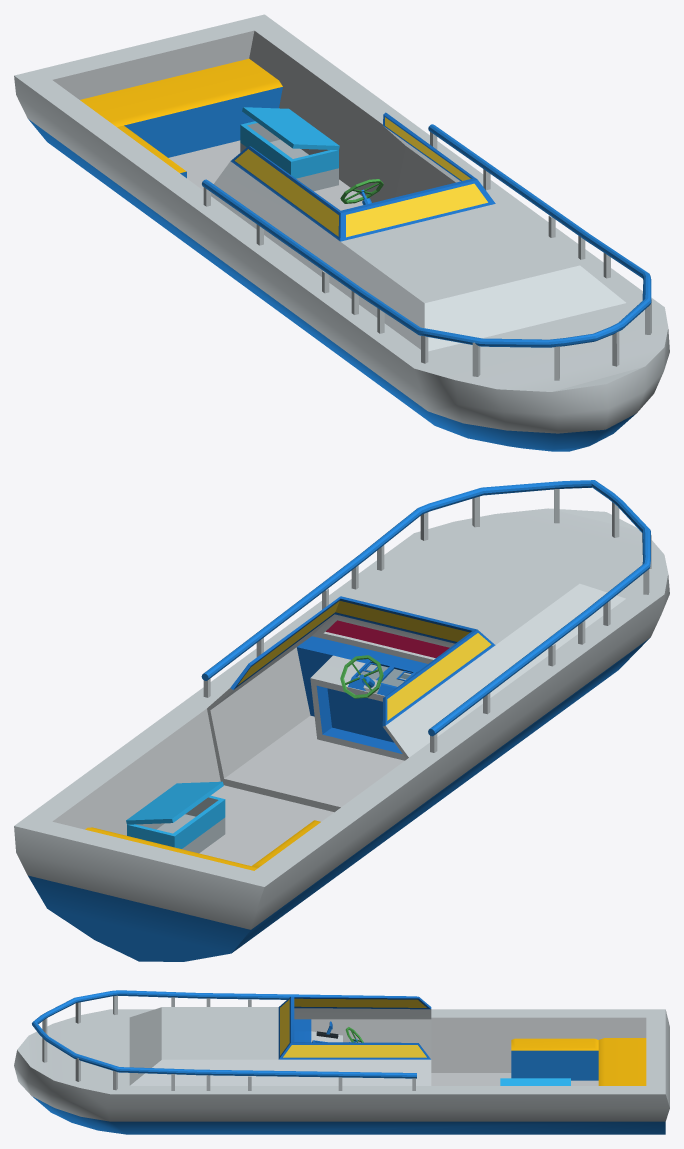
File: speed_boat.fbx
3 views of the same model, one above another, from view 1: azimuth 30°, elevation 25°; view 2: azimuth 150°, elevation 25°; view 3: azimuth 270°, elevation 25° (orthographic). The views are drawn at different scales.
Visible parts, largest first — view 1: Speed_Boat; view 2: Speed_Boat; view 3: Speed_Boat.
Boxes of the visible parts, x1,y1,x2,y2 form: Speed_Boat: (14, 14, 669, 451); Speed_Boat: (14, 480, 669, 961); Speed_Boat: (14, 990, 669, 1134).
Size of the model in its own units: 35.65 by 20.58 by 116.
